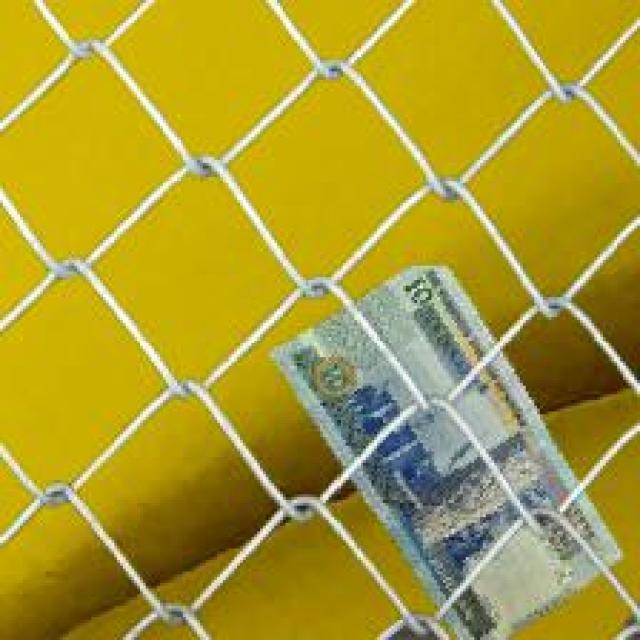10-dinar: (268, 263, 626, 640)
